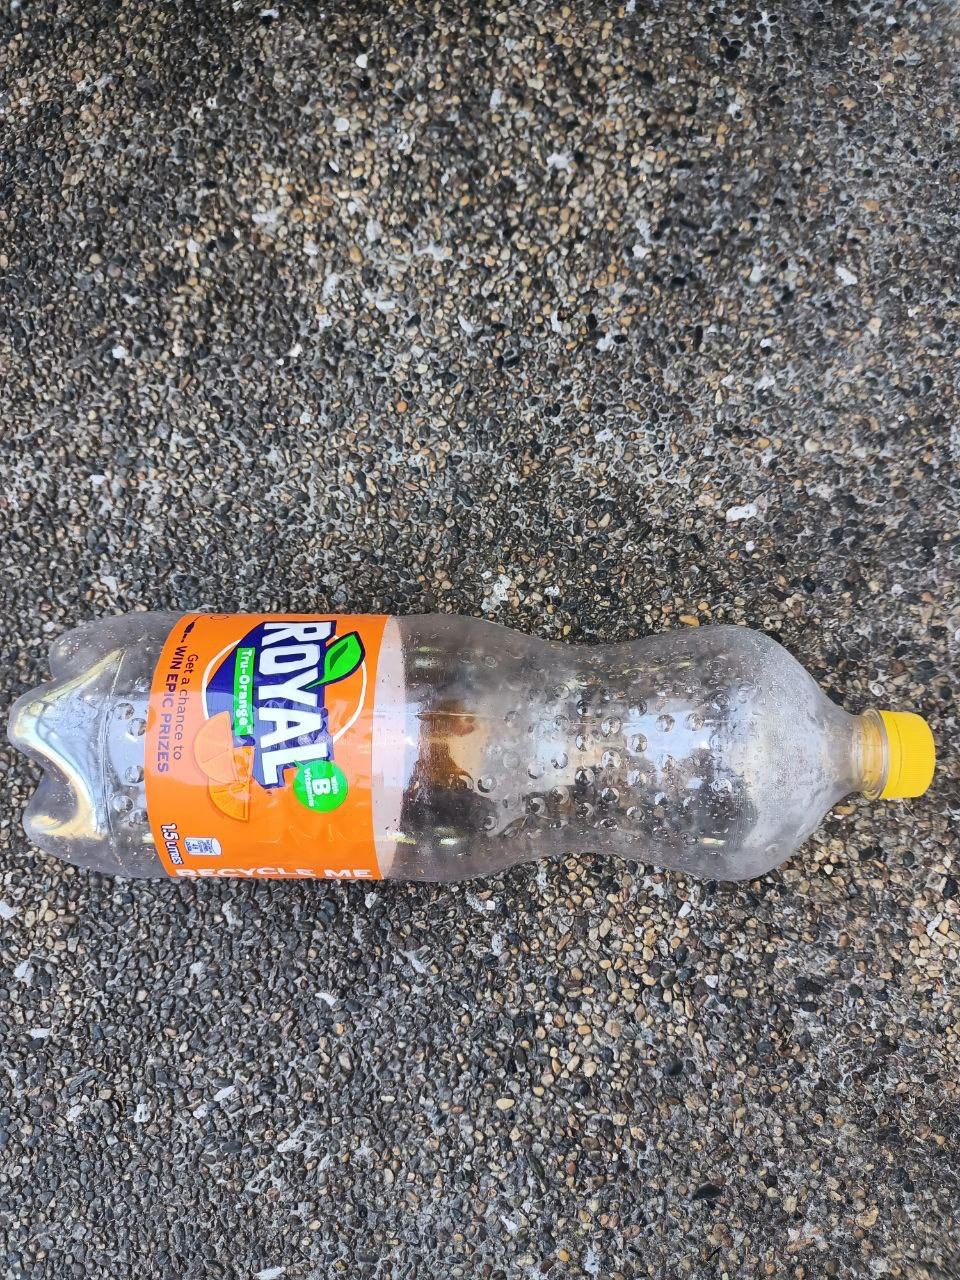plastic: (0, 588, 953, 934)
